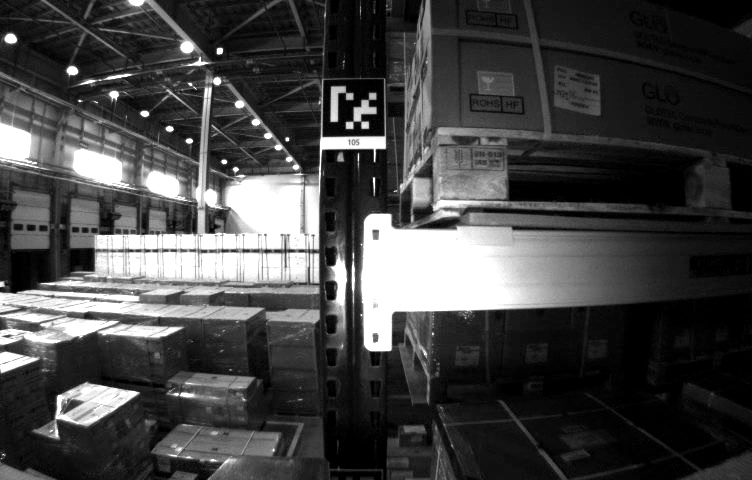True Barcode: (550, 62, 606, 119)
